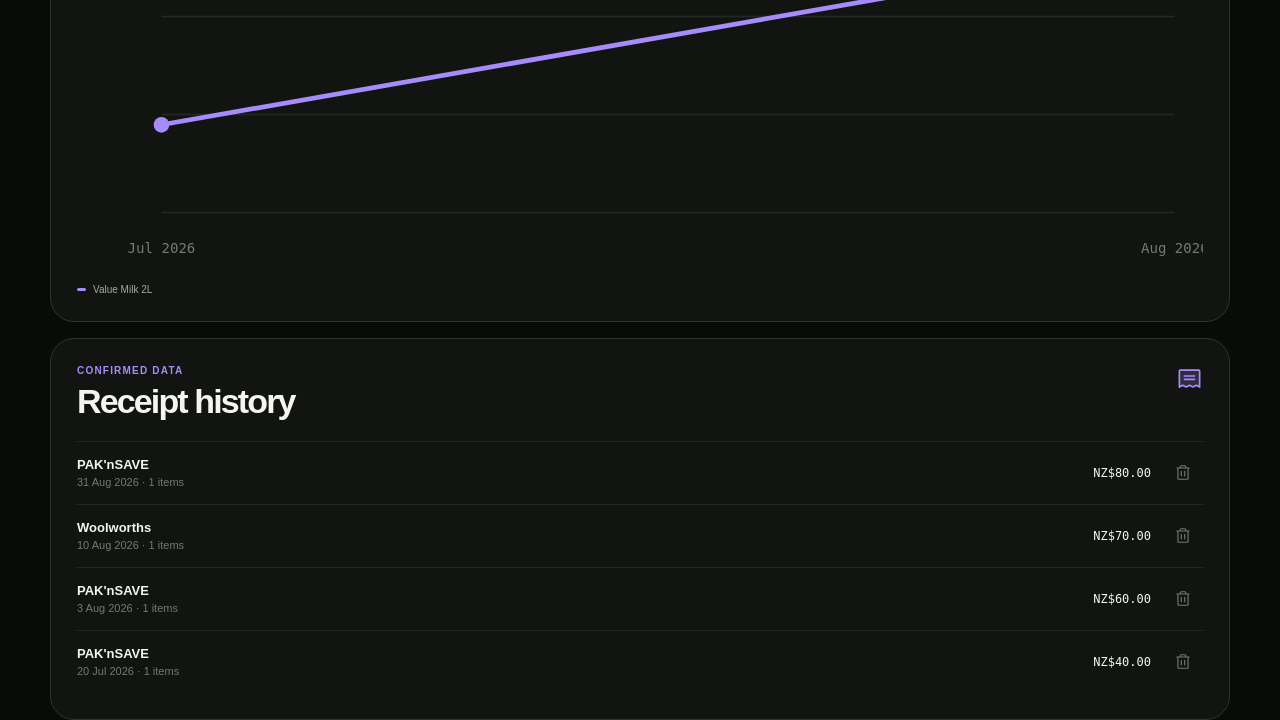
Scenario: DashboardWorkspace › keeps a confirmed receipt when deletion fails
(page scrolled)
Click the button named "Delete PAK'nSAVE receipt from 20 Jul 2026" at {"x": 1183, "y": 662}, box left=1165, top=644, right=1201, bottom=680
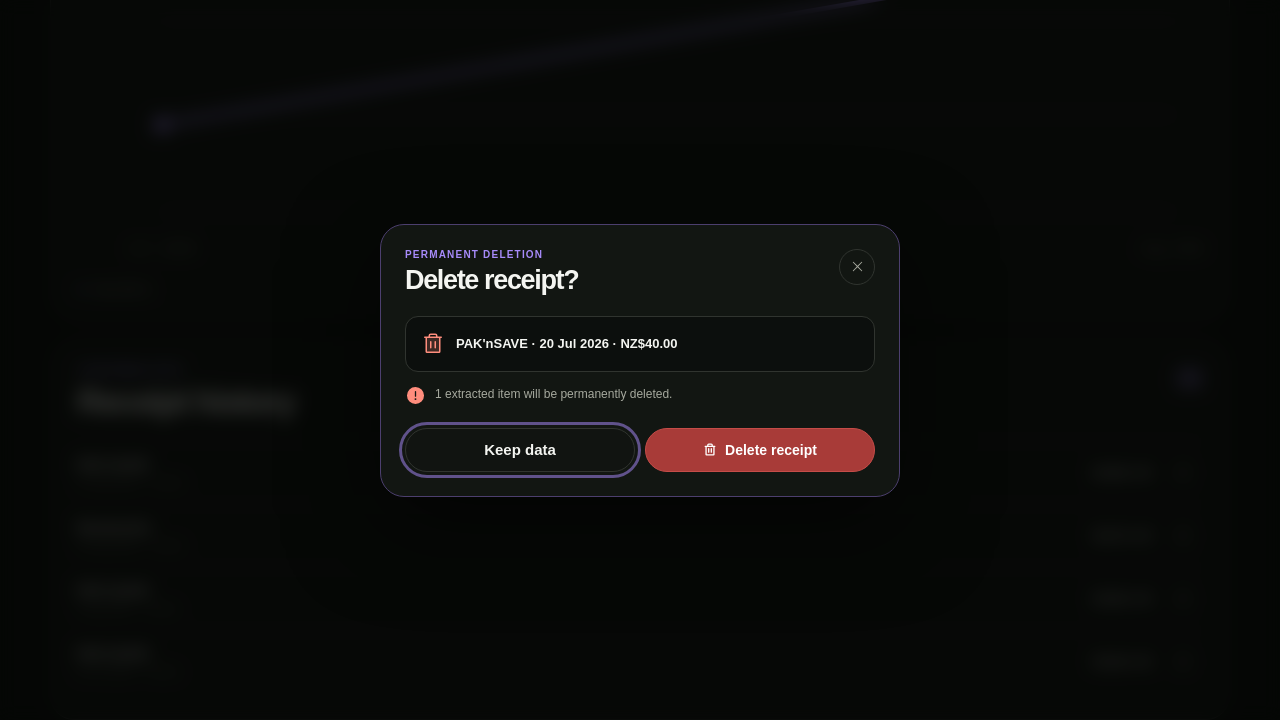
Click the button "Delete receipt" at {"x": 760, "y": 450}, box left=645, top=428, right=875, bottom=472
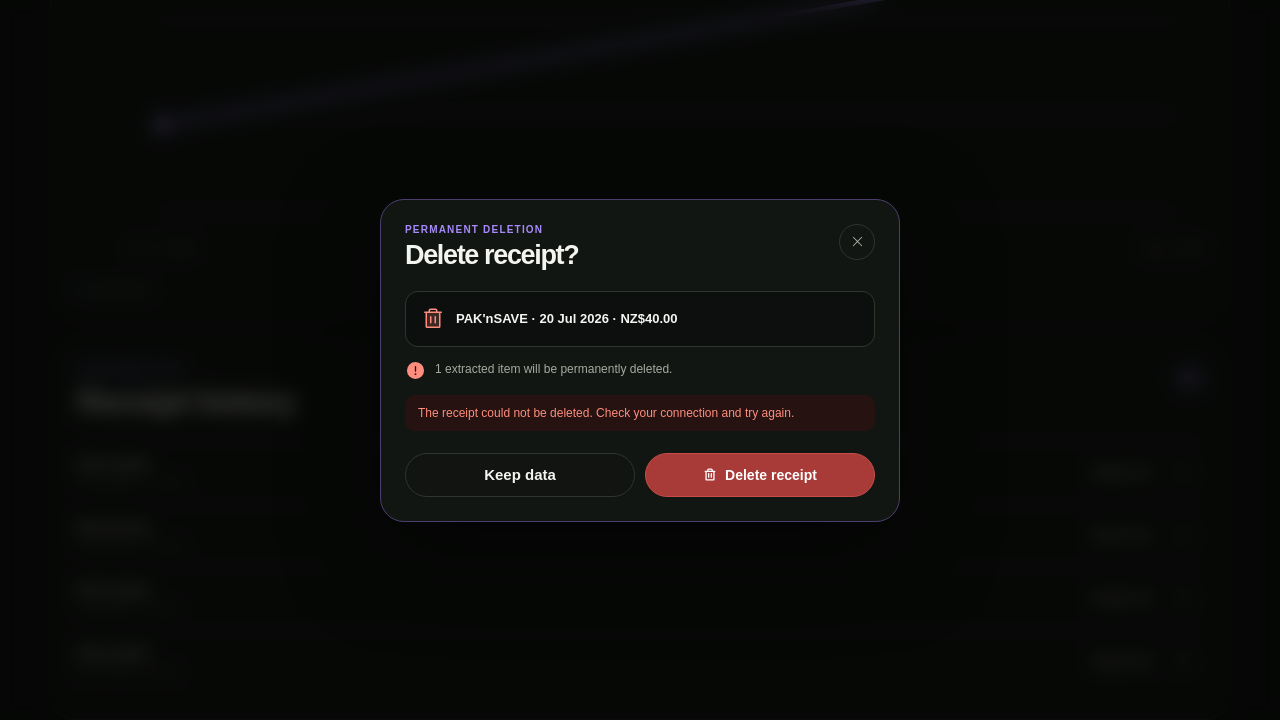
Result: the message shows "The receipt could not be deleted" at left=418, top=406, right=794, bottom=420
